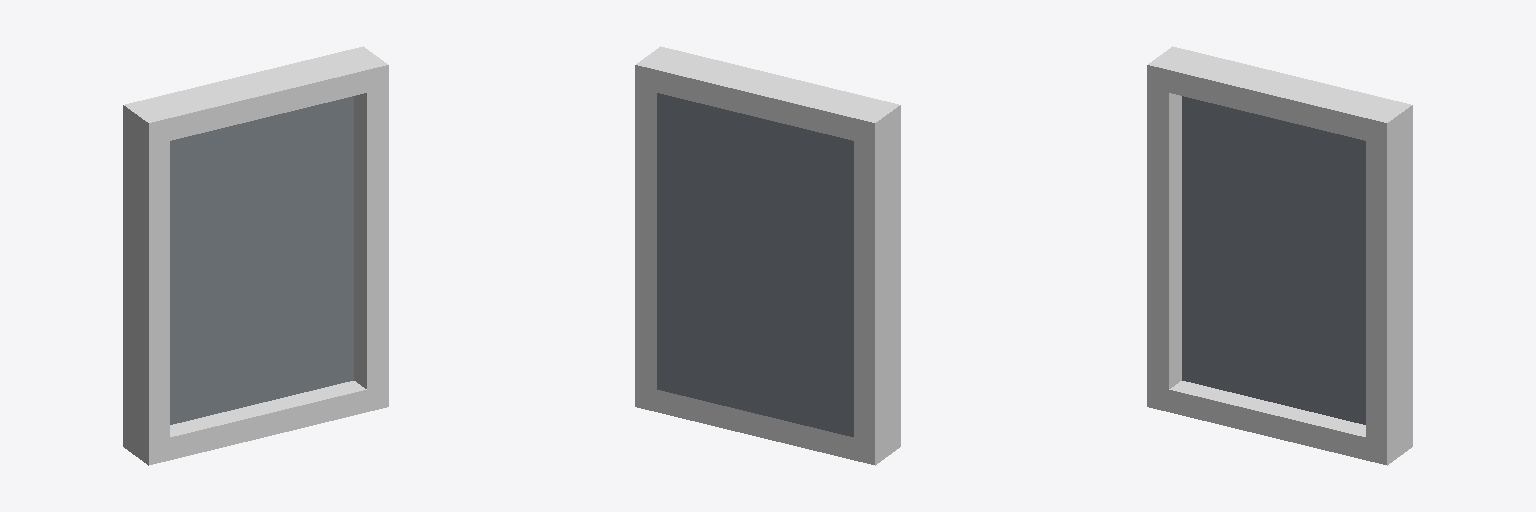
3 renders of one model, left to right at view 1: azimuth 30°, elevation 25°; view 2: azimuth 150°, elevation 25°; view 3: azimuth 330°, elevation 25°, orthographic.
Parts seen in each view (by area): view 1: object 1; view 2: object 1; view 3: object 1.
Part boxes in pixels (bbox=[...]): object 1: bbox=[123, 46, 388, 465]; object 1: bbox=[635, 46, 900, 465]; object 1: bbox=[1147, 46, 1412, 465].
Size of the model in its own units: 1.1 by 1.5 by 0.2.
Materials: 1 (1 with a texture image).